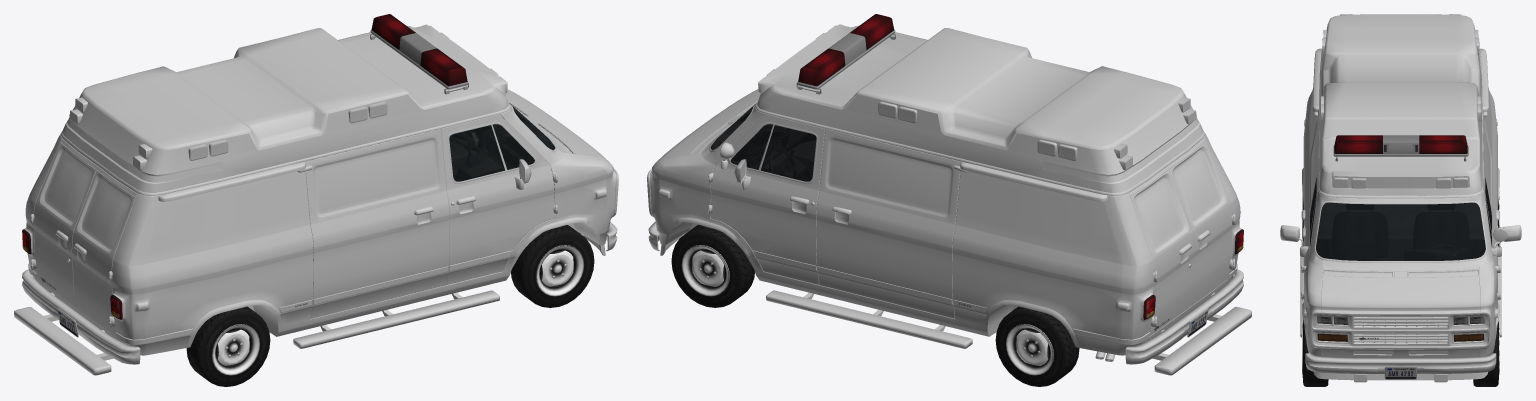
Rendered from chvan_ambulance.fbx.
The picture shows the model from 3 angles, left to right: view 1: azimuth 30°, elevation 25°; view 2: azimuth 150°, elevation 25°; view 3: azimuth 270°, elevation 25°; orthographic projection. The views are drawn at different scales.
Parts seen in each view (by area): view 1: Shvan92_Body, Shvan92_Ambulance_Stuff, Shvan92_WheelStock_FR, Shvan92_WheelStock_RL, Shvan92_Bottom, Shvan92_Runningboard, Shvan92_Interior, Shvan92_Lightbar_Ambulance, Shvan92_Bumper_rear, Shvan92_Glass_Passanger, Shvan92_Ambulance_Stuff_Inner, Shvan92_Hood (+1 smaller); view 2: Shvan92_Body, Shvan92_Ambulance_Stuff, Shvan92_WheelStock_FL, Shvan92_Bottom, Shvan92_WheelStock_RL, Shvan92_Runningboard, Shvan92_Interior, Shvan92_Lightbar_Ambulance, Shvan92_Bumper_rear, Shvan92_Glass_Driver, Shvan92_Ambulance_Stuff_Inner, Shvan92_Hood (+1 smaller); view 3: Shvan92_Ambulance_Stuff, Shvan92_Body, Shvan92_Bottom, Shvan92_Interior, Shvan92_Windshield, Shvan92_Hood, Shvan92_Bumper_front, Shvan92_Lightbar_Ambulance, Shvan92_Ambulance_Stuff_Inner, Shvan92_Headlights_Glass, Shvan92_WheelStock_FL, Shvan92_WheelStock_FR (+4 smaller).
Part boxes in pixels (x1=…): Shvan92_Body: x1=24, y1=89, x2=615, y2=355; Shvan92_Ambulance_Stuff: x1=62, y1=24, x2=508, y2=192; Shvan92_WheelStock_FR: x1=511, y1=225, x2=594, y2=307; Shvan92_WheelStock_RL: x1=186, y1=306, x2=270, y2=386; Shvan92_Bottom: x1=28, y1=102, x2=618, y2=344; Shvan92_Runningboard: x1=14, y1=290, x2=499, y2=375; Shvan92_Interior: x1=307, y1=113, x2=554, y2=301; Shvan92_Lightbar_Ambulance: x1=370, y1=14, x2=468, y2=94; Shvan92_Bumper_rear: x1=22, y1=269, x2=140, y2=364; Shvan92_Glass_Passanger: x1=449, y1=125, x2=504, y2=181; Shvan92_Ambulance_Stuff_Inner: x1=69, y1=26, x2=507, y2=170; Shvan92_Hood: x1=505, y1=90, x2=608, y2=161; Shvan92_Body: x1=650, y1=89, x2=1241, y2=355; Shvan92_Ambulance_Stuff: x1=757, y1=24, x2=1203, y2=192; Shvan92_WheelStock_FL: x1=671, y1=225, x2=754, y2=307; Shvan92_Bottom: x1=647, y1=105, x2=1237, y2=361; Shvan92_WheelStock_RL: x1=995, y1=306, x2=1079, y2=386; Shvan92_Runningboard: x1=766, y1=290, x2=1251, y2=375; Shvan92_Interior: x1=711, y1=113, x2=815, y2=181; Shvan92_Lightbar_Ambulance: x1=796, y1=14, x2=895, y2=94; Shvan92_Bumper_rear: x1=1125, y1=269, x2=1243, y2=364; Shvan92_Glass_Driver: x1=760, y1=125, x2=816, y2=181; Shvan92_Ambulance_Stuff_Inner: x1=720, y1=25, x2=1196, y2=170; Shvan92_Hood: x1=658, y1=90, x2=760, y2=160; Shvan92_Ambulance_Stuff: x1=1319, y1=14, x2=1482, y2=195; Shvan92_Body: x1=1301, y1=48, x2=1500, y2=357; Shvan92_Bottom: x1=1280, y1=119, x2=1521, y2=382; Shvan92_Interior: x1=1307, y1=179, x2=1491, y2=260; Shvan92_Windshield: x1=1316, y1=202, x2=1485, y2=260; Shvan92_Hood: x1=1321, y1=275, x2=1479, y2=312; Shvan92_Bumper_front: x1=1305, y1=353, x2=1496, y2=379; Shvan92_Lightbar_Ambulance: x1=1333, y1=135, x2=1468, y2=161; Shvan92_Ambulance_Stuff_Inner: x1=1320, y1=14, x2=1507, y2=255; Shvan92_Headlights_Glass: x1=1317, y1=316, x2=1484, y2=341; Shvan92_WheelStock_FL: x1=1473, y1=321, x2=1499, y2=386; Shvan92_WheelStock_FR: x1=1302, y1=320, x2=1328, y2=386.
Bounding box in the file's own units: 5.02 × 2.26 × 2.35.
